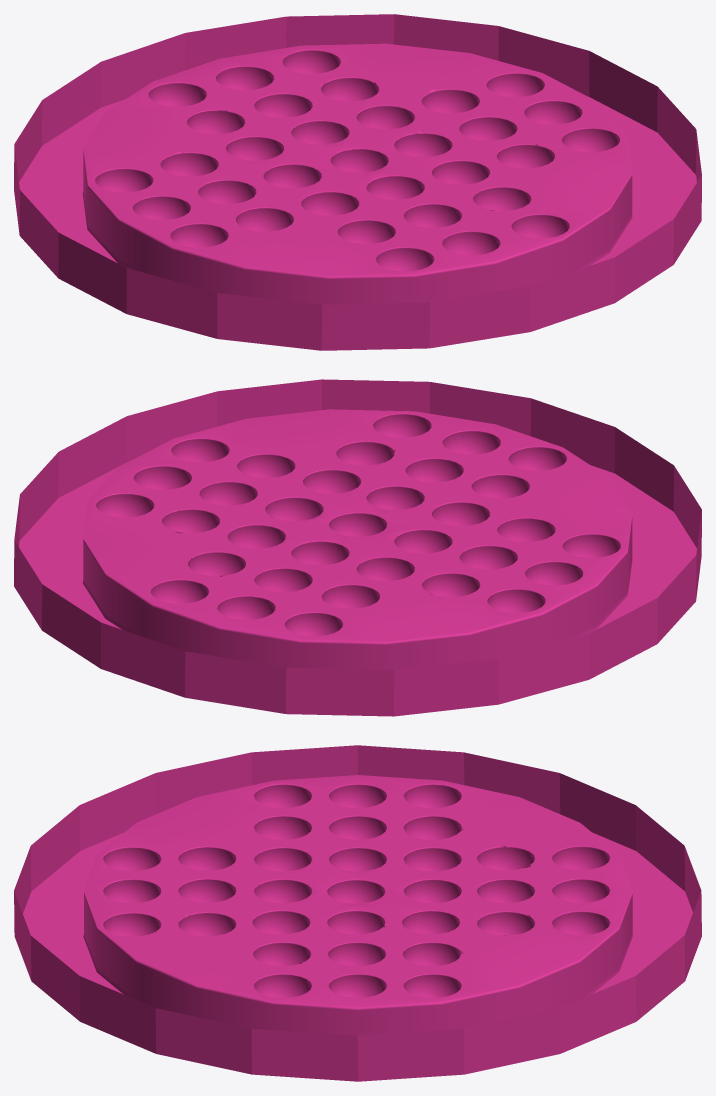
Rendered from PLATE.fbx.
The picture shows the model from 3 angles, top to bottom: view 1: azimuth 30°, elevation 25°; view 2: azimuth 150°, elevation 25°; view 3: azimuth 270°, elevation 25°; orthographic projection.
Parts seen in each view (by area): view 1: polySurface36; view 2: polySurface36; view 3: polySurface36.
Part boxes in pixels (x1=…): polySurface36: x1=14, y1=14, x2=701, y2=350; polySurface36: x1=14, y1=379, x2=701, y2=716; polySurface36: x1=14, y1=745, x2=701, y2=1081.
Size of the model in its own units: 11.08 by 0.8177 by 11.09.
